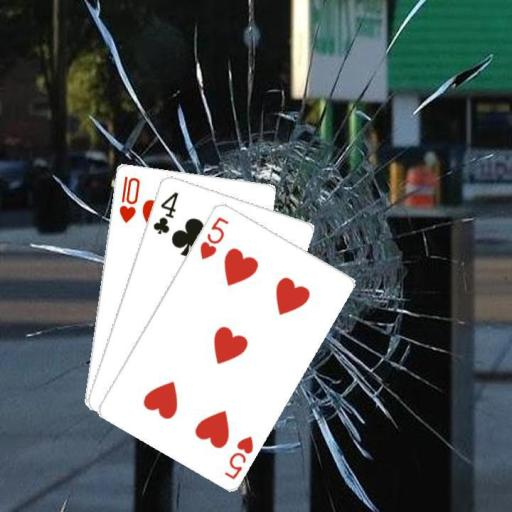10H: (115, 173, 141, 224)
4C: (150, 189, 180, 236)
5H: (221, 432, 255, 481), (197, 213, 231, 261)
